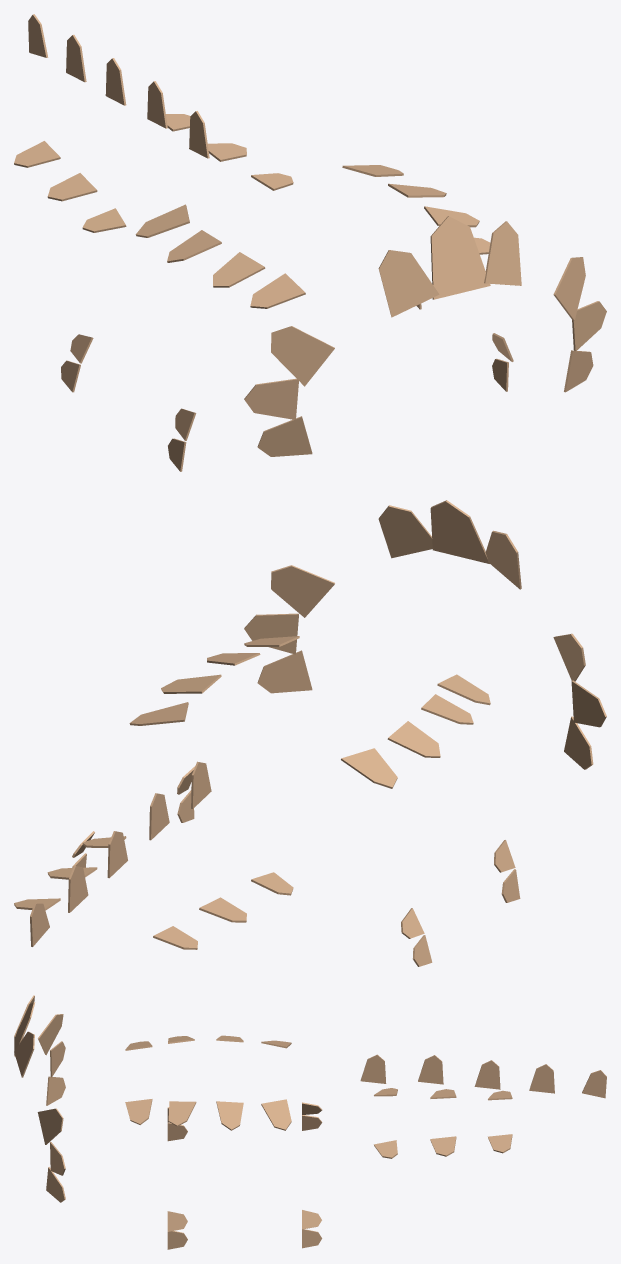
The picture shows the model from 3 angles, top to bottom: view 1: azimuth 30°, elevation 25°; view 2: azimuth 150°, elevation 25°; view 3: azimuth 270°, elevation 25°; orthographic projection. The views are drawn at different scales.
Visible parts, largest first — view 1: spikes.Mesh; view 2: spikes.Mesh; view 3: spikes.Mesh.
Part boxes in pixels (left/top/right/bottom): spikes.Mesh: left=14, top=14, right=606, bottom=471; spikes.Mesh: left=14, top=500, right=606, bottom=966; spikes.Mesh: left=14, top=995, right=606, bottom=1249.
Size of the model in its own units: 0.1963 by 0.1479 by 0.4055.
